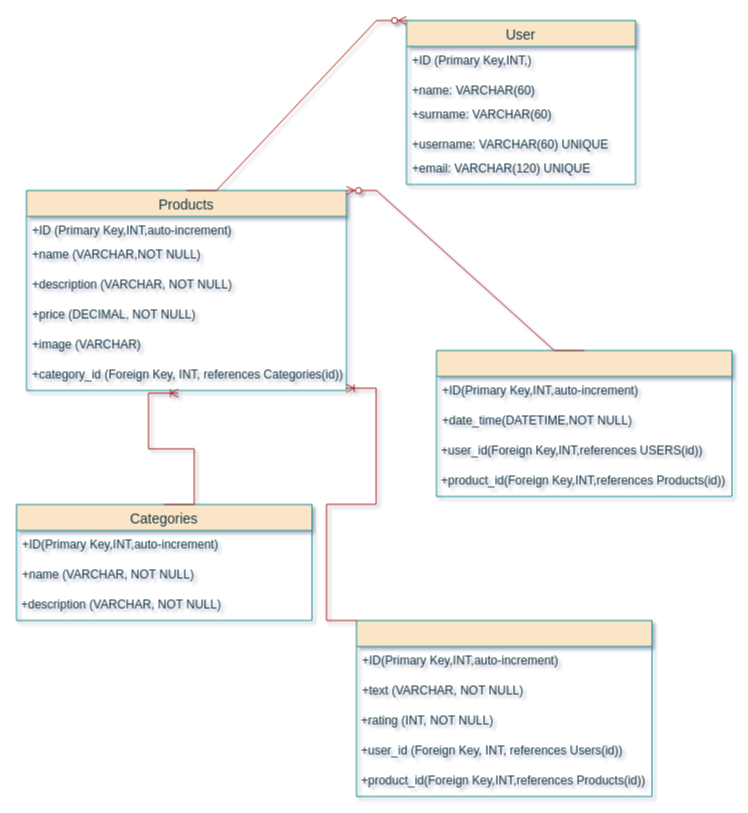
This 748x813 diagram has some shape labels left out. Here are the shapes that lost their labels. From the top down, the box of each, then its label:
(436, 350, 732, 496): Orders
(356, 620, 652, 796): Reviews
